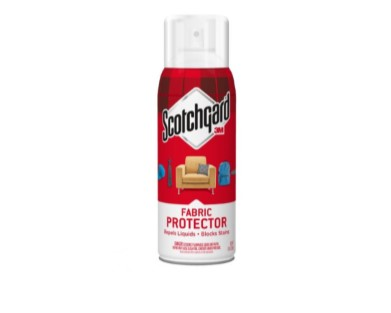Aerosol_cans: (153, 11, 242, 269)
